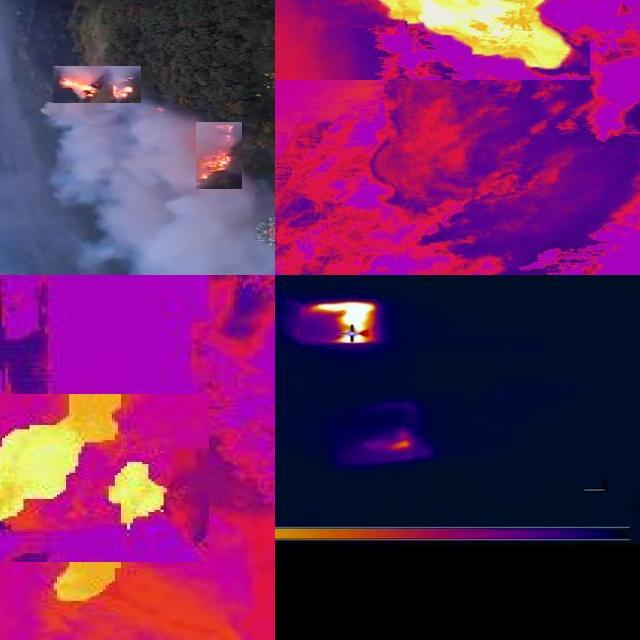fire: (4, 394, 171, 605), (372, 1, 574, 82), (301, 299, 379, 347)
